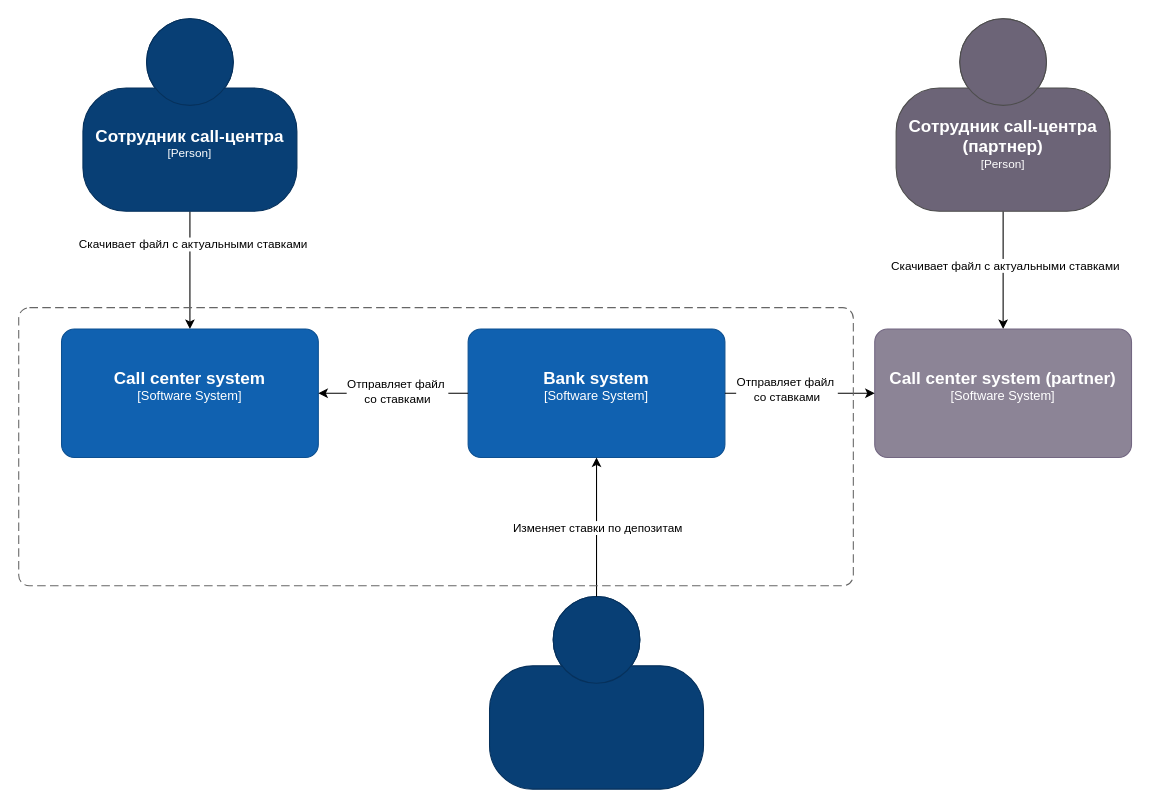
Image size: 1150x808. Some labels were removed from this diagram. The box of each missing label's shape, as (x1, y1, x2, y2) in pixels:
Standart bank system [Software System]: (18, 307, 853, 586)
Сотрудник бек-офиса [Person] Description of person.: (488, 595, 704, 789)
